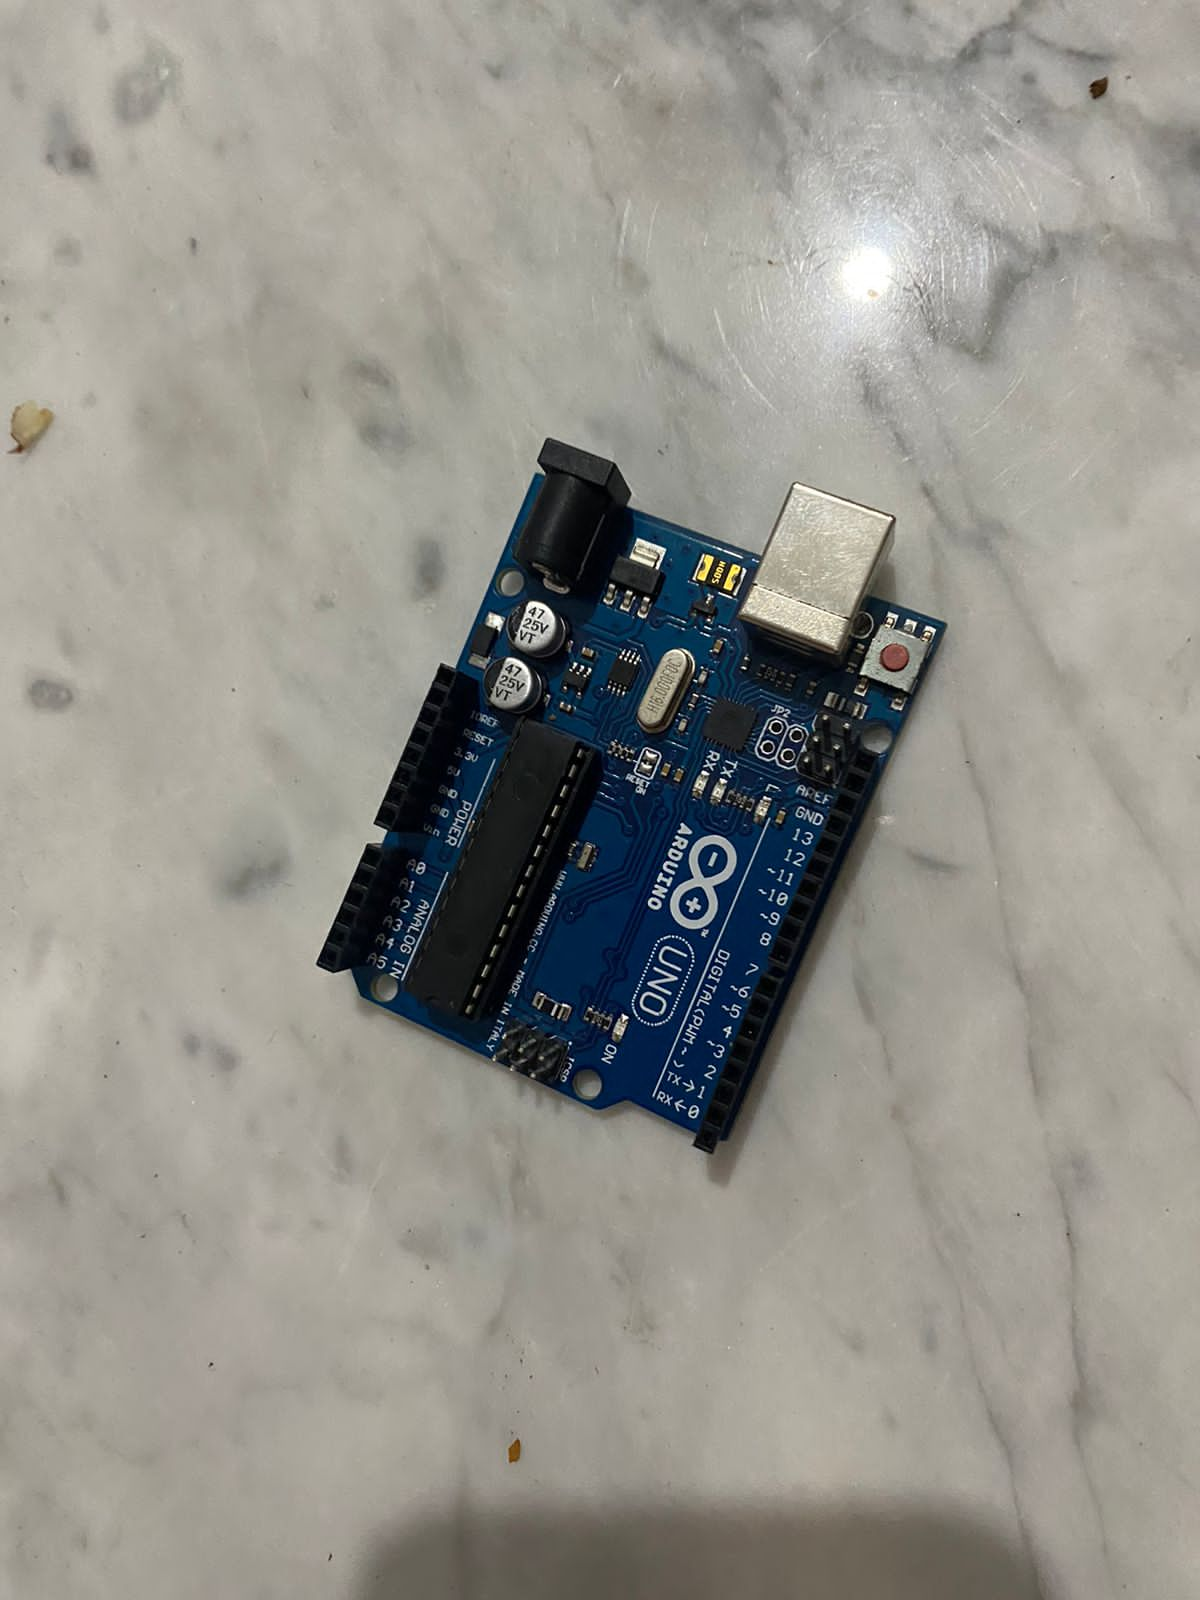arduino-uno: (321, 432, 968, 1179)
